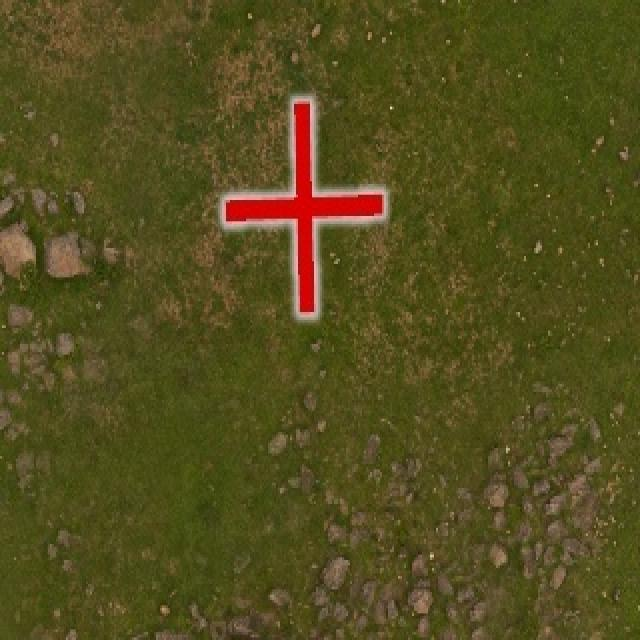x_marker: (223, 100, 383, 313)
